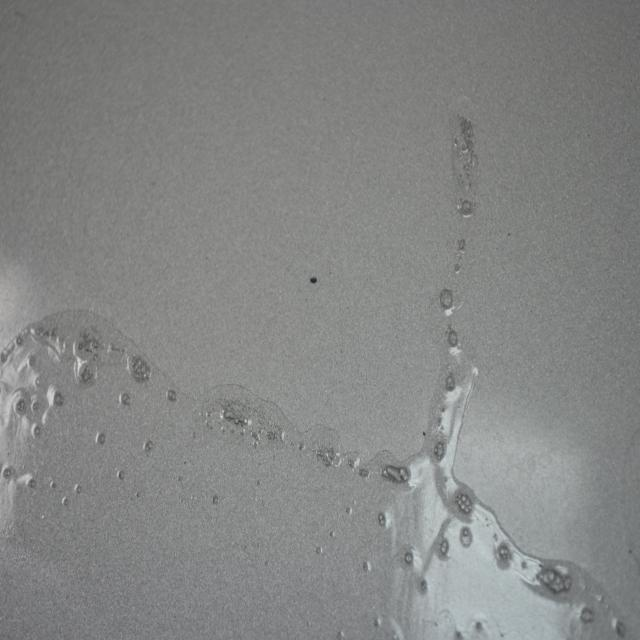dirt: (308, 272, 319, 286)
runs: (0, 95, 624, 640)
